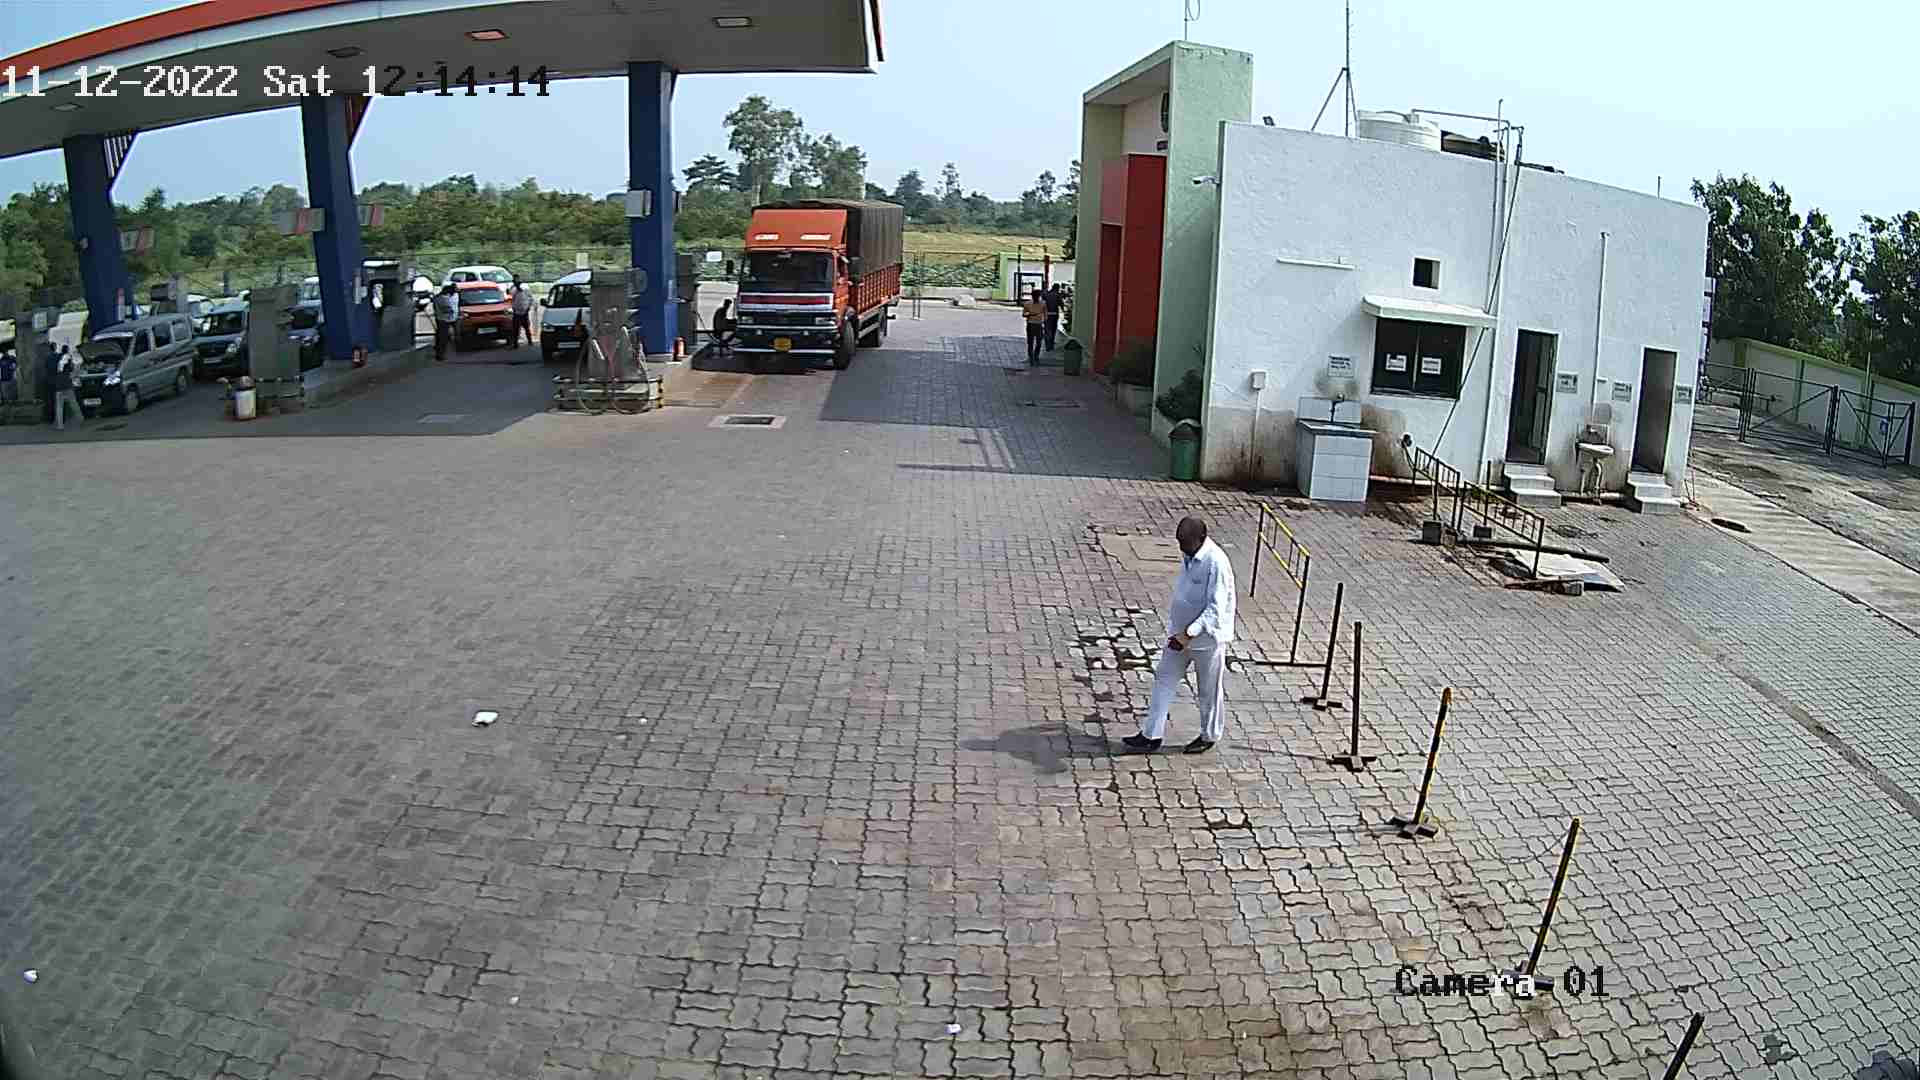Car: (61, 297, 204, 417), (430, 276, 525, 360), (334, 247, 439, 320), (529, 264, 605, 365), (185, 291, 257, 393), (433, 257, 527, 313)
HMV: (702, 189, 907, 376)
